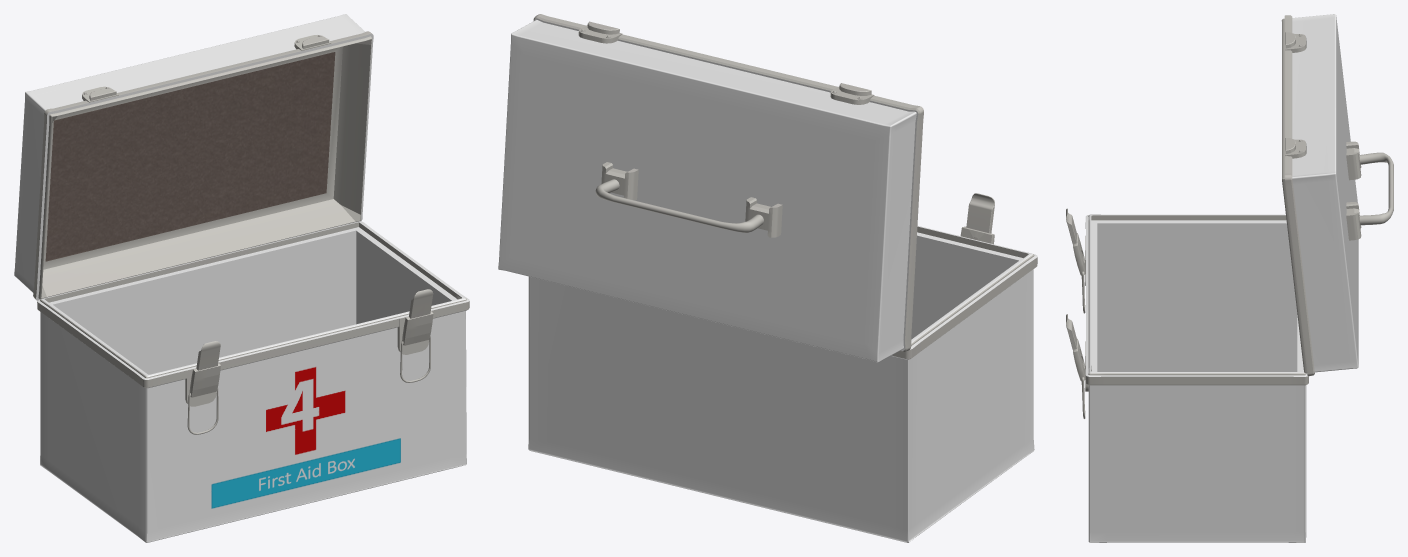
File: medicineboxv3_open.fbx
3 renders of one model, left to right at view 1: azimuth 30°, elevation 25°; view 2: azimuth 150°, elevation 25°; view 3: azimuth 270°, elevation 25°, orthographic. The views are drawn at different scales.
Visible parts, largest first — view 1: opened_medicinebox_v3_uv_combined_mesh_result; view 2: opened_medicinebox_v3_uv_combined_mesh_result; view 3: opened_medicinebox_v3_uv_combined_mesh_result.
Part boxes in pixels (<box>): opened_medicinebox_v3_uv_combined_mesh_result: <box>14,14,469,542</box>; opened_medicinebox_v3_uv_combined_mesh_result: <box>498,14,1037,542</box>; opened_medicinebox_v3_uv_combined_mesh_result: <box>1066,14,1393,542</box>.
Size of the model in its own units: 36 by 38.55 by 30.7.
2 materials, 2 textured.
